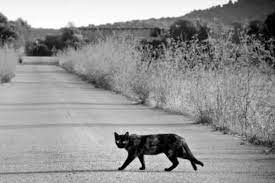cat: (114, 130, 205, 172)
